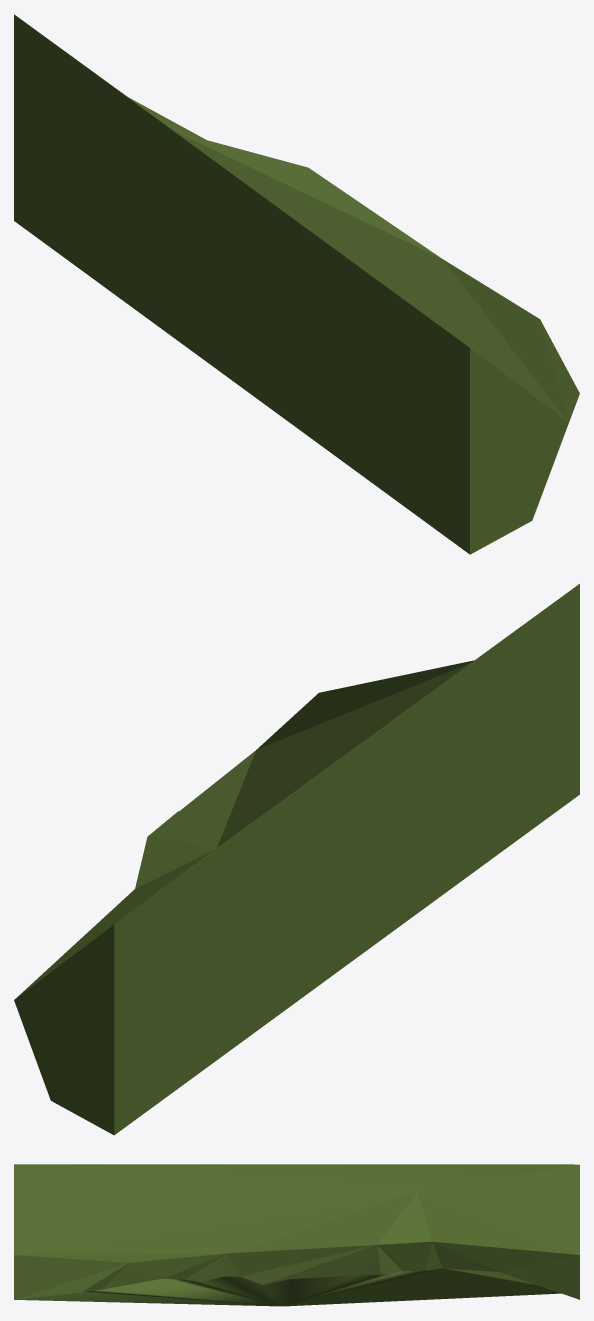
File: LightVegetationEdgeSmallStraight2.fbx
The picture shows the model from 3 angles, top to bottom: view 1: azimuth 30°, elevation 25°; view 2: azimuth 150°, elevation 25°; view 3: azimuth 270°, elevation 25°; orthographic projection. The views are drawn at different scales.
Visible parts, largest first — view 1: LightVegetationEdgeSmallStraight2; view 2: LightVegetationEdgeSmallStraight2; view 3: LightVegetationEdgeSmallStraight2.
Part boxes in pixels (box(x1,y1,x2,y2)): LightVegetationEdgeSmallStraight2: box(14, 14, 579, 554); LightVegetationEdgeSmallStraight2: box(14, 584, 579, 1135); LightVegetationEdgeSmallStraight2: box(14, 1164, 579, 1306).
Bounding box in the file's own units: 173 × 200 × 800.
